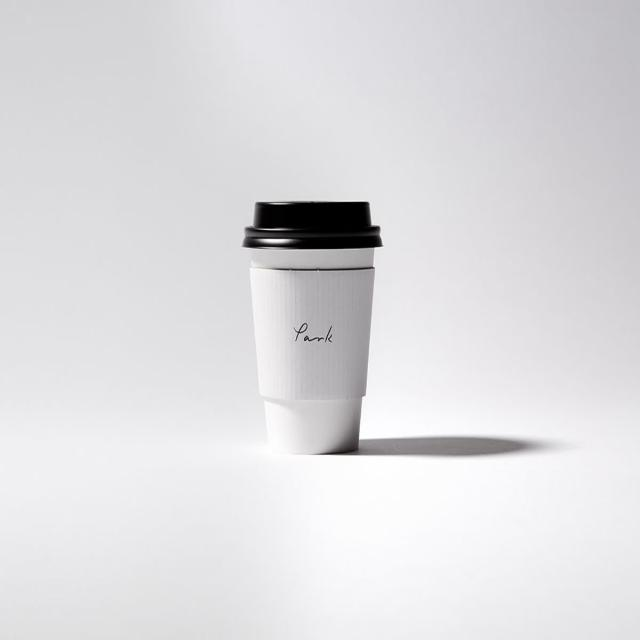paper cup: (241, 199, 385, 456)
